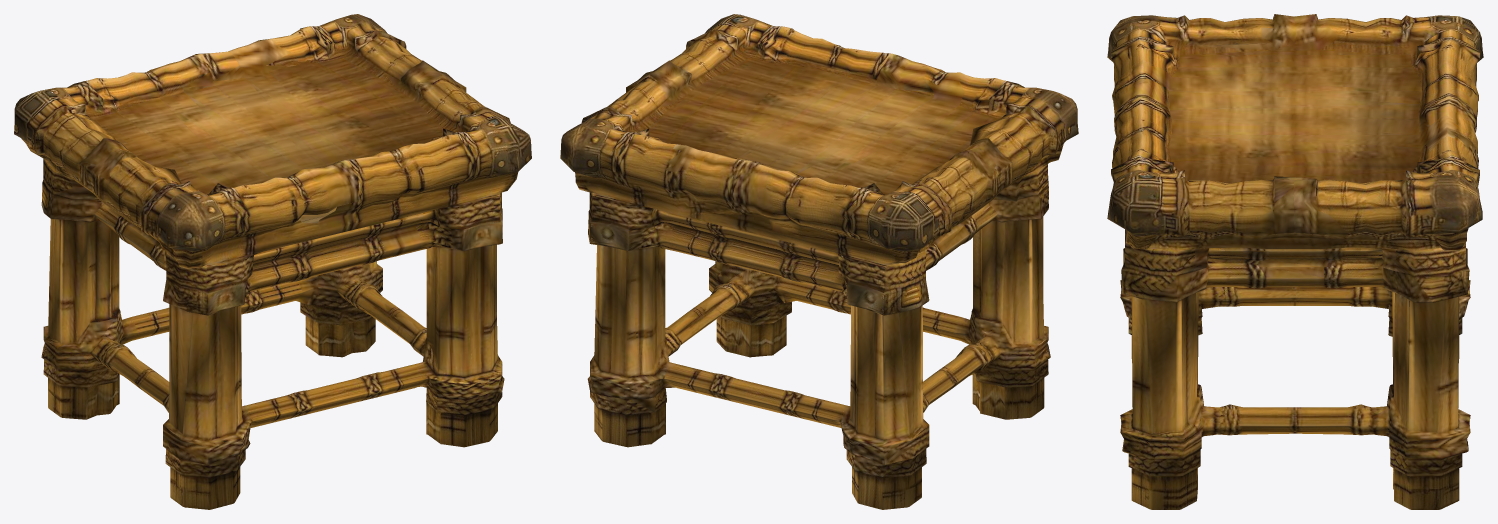
The model's file is Tavern_Emerald_Cottage.glb.
3 views of the same model, side by side, from view 1: azimuth 30°, elevation 25°; view 2: azimuth 150°, elevation 25°; view 3: azimuth 270°, elevation 25° (orthographic). The views are drawn at different scales.
Bounding box in the file's own units: 1.91 × 1.54 × 1.58.
Materials: 1 (1 with a texture image).
